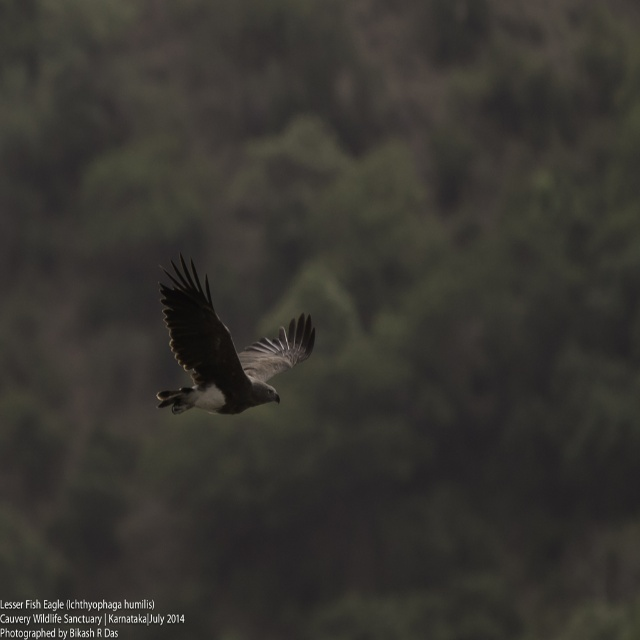Eagle: (152, 248, 320, 423)
